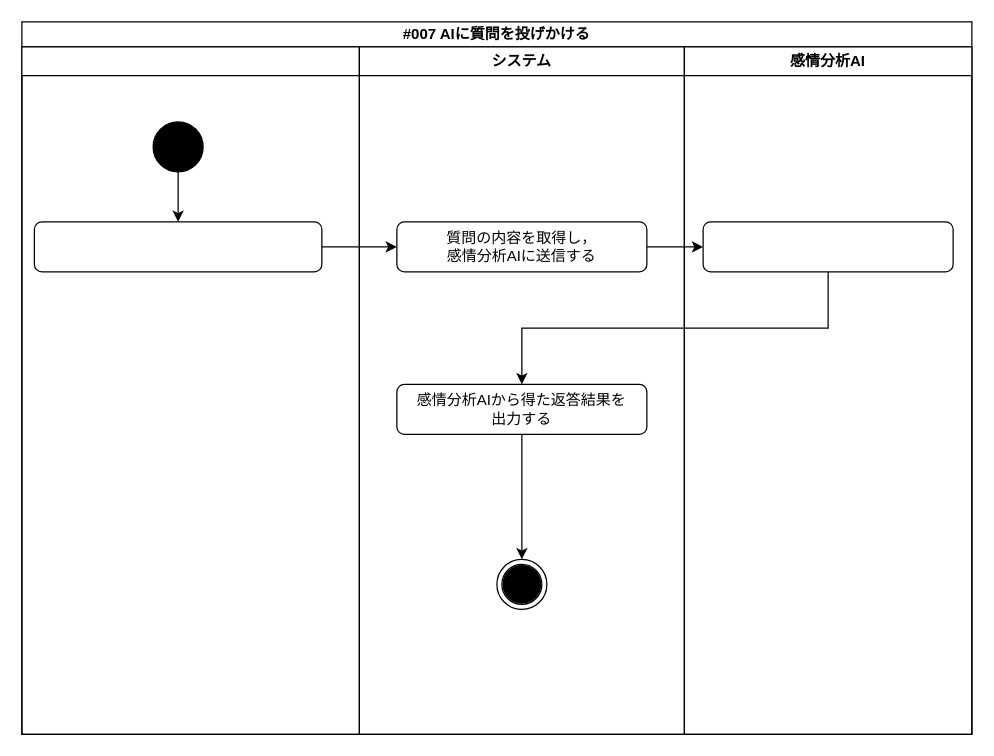
This 994x756 diagram has some shape labels left out. Here are the shapes that lost their labels. From the top down, the box of each, then its label:
(33, 221, 322, 272): 質問を入力し，「送信」を選択する
(702, 221, 953, 272): 質問内容をもとに，生成された内容を，システムに送信する．
(21, 46, 359, 734): ユーザー
